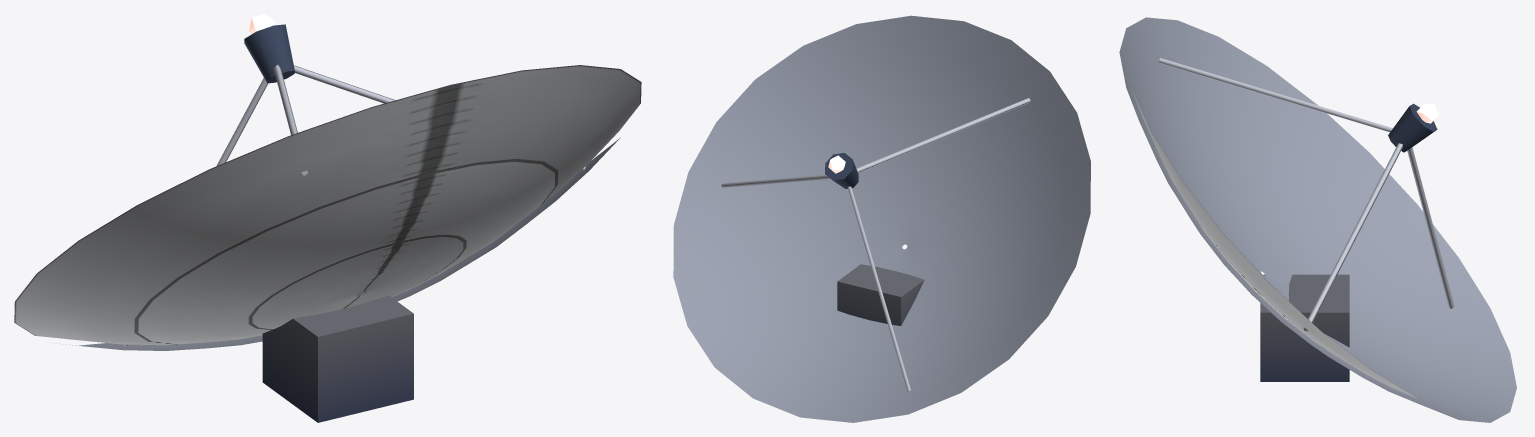
File: antena-radar.glb
3 renders of one model, left to right at view 1: azimuth 30°, elevation 25°; view 2: azimuth 150°, elevation 25°; view 3: azimuth 270°, elevation 25°, orthographic. The views are drawn at different scales.
Parts seen in each view (by area): view 1: antena-radar; view 2: antena-radar; view 3: antena-radar.
Boxes of the visible parts, x1,y1,x2,y2 form: antena-radar: (14,14,641,422); antena-radar: (673,15,1090,422); antena-radar: (1119,17,1516,422).
Size of the model in its own units: 8.5 by 5.85 by 6.27.
4 materials, 1 textured.
